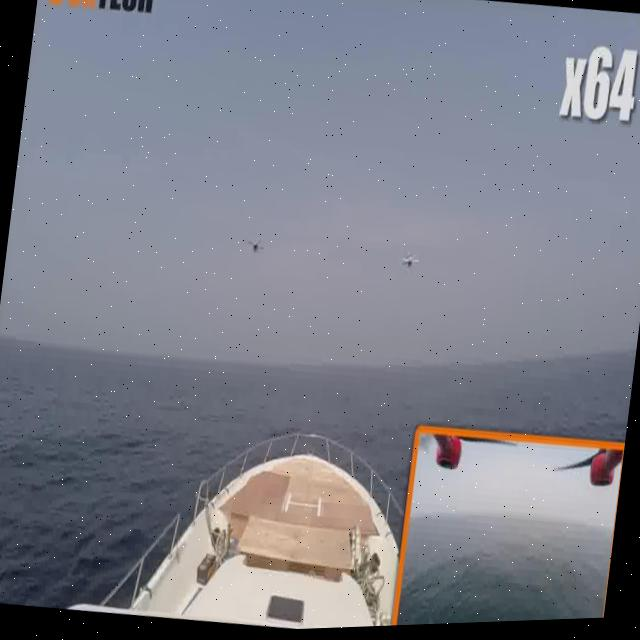drone: (0, 364, 625, 640)
